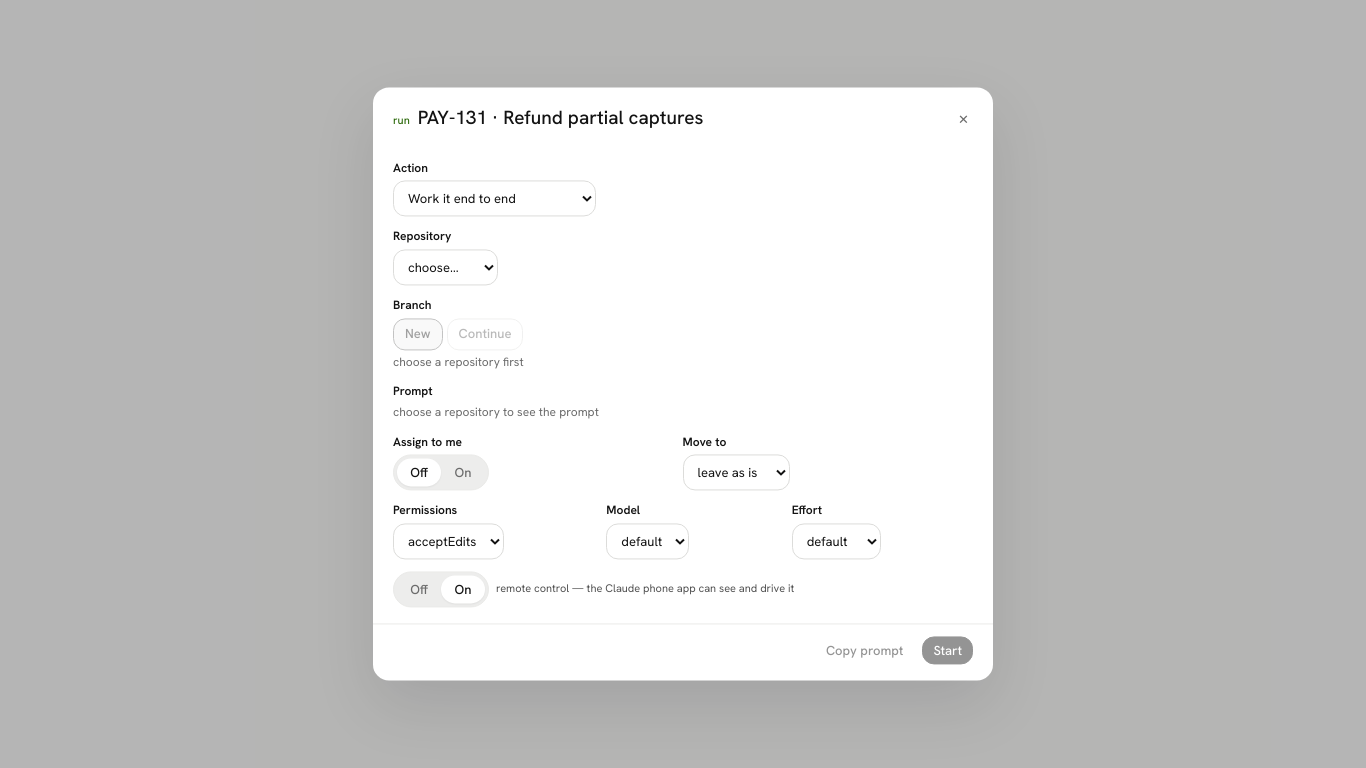
JiraLaunchSheet — the branch › puts A's defaults back after an edit in A and a quick A → B → A, B's refs never answering
Select "~/pay" in the dropdown named "Repository" at (446, 268), box [393,250,498,286]
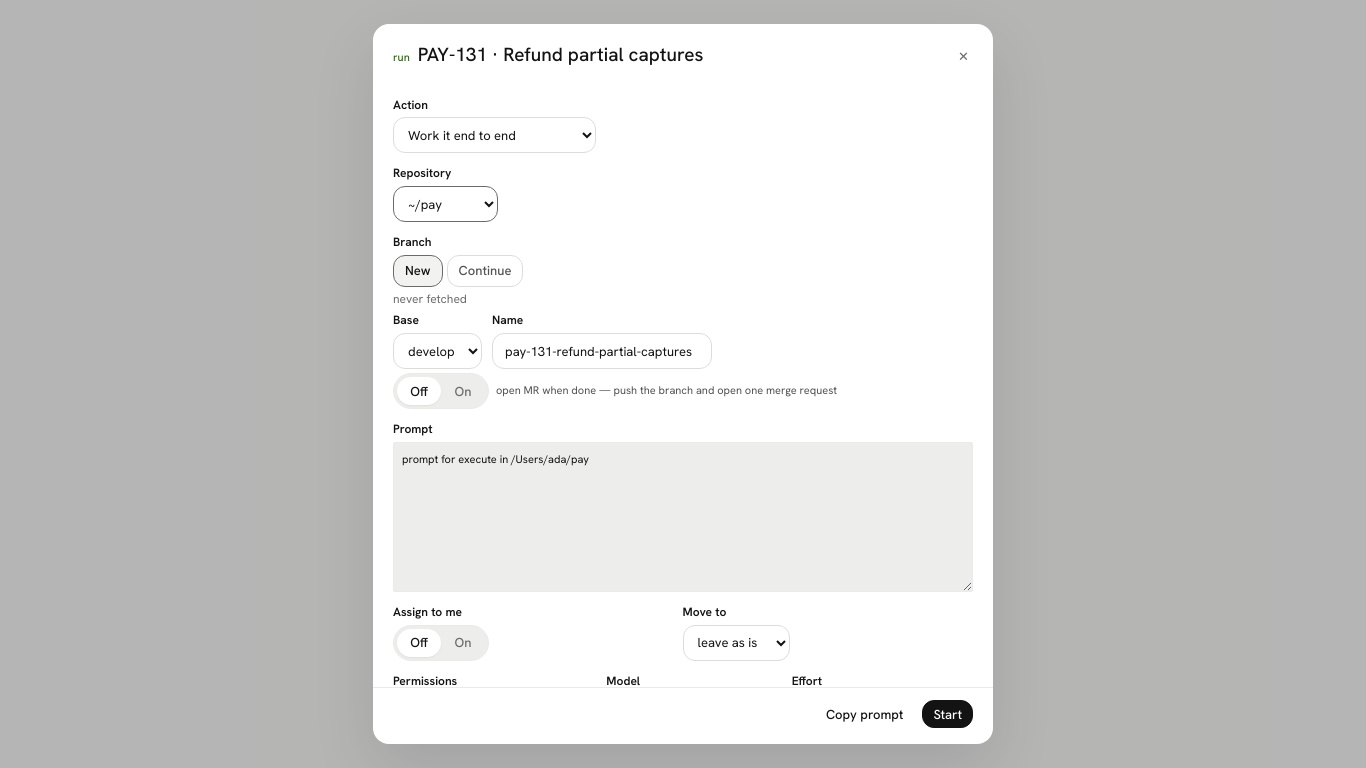
Expected: the button "New" is shown, [393,255,443,287]
Clear the field labelled "Name" at (602, 351), box [492,333,712,369]
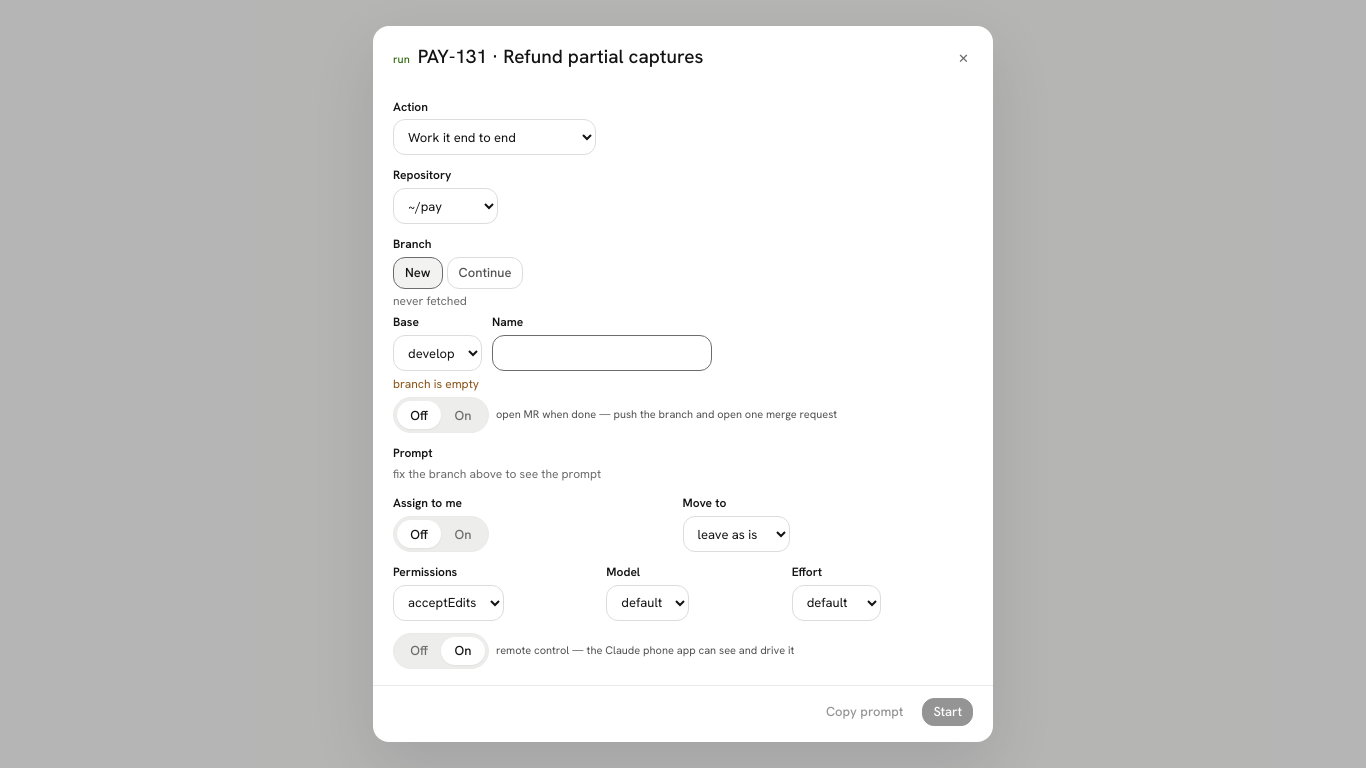
Type "pay-131-edited" into the field labelled "Name" at (602, 353), box [492,335,712,371]
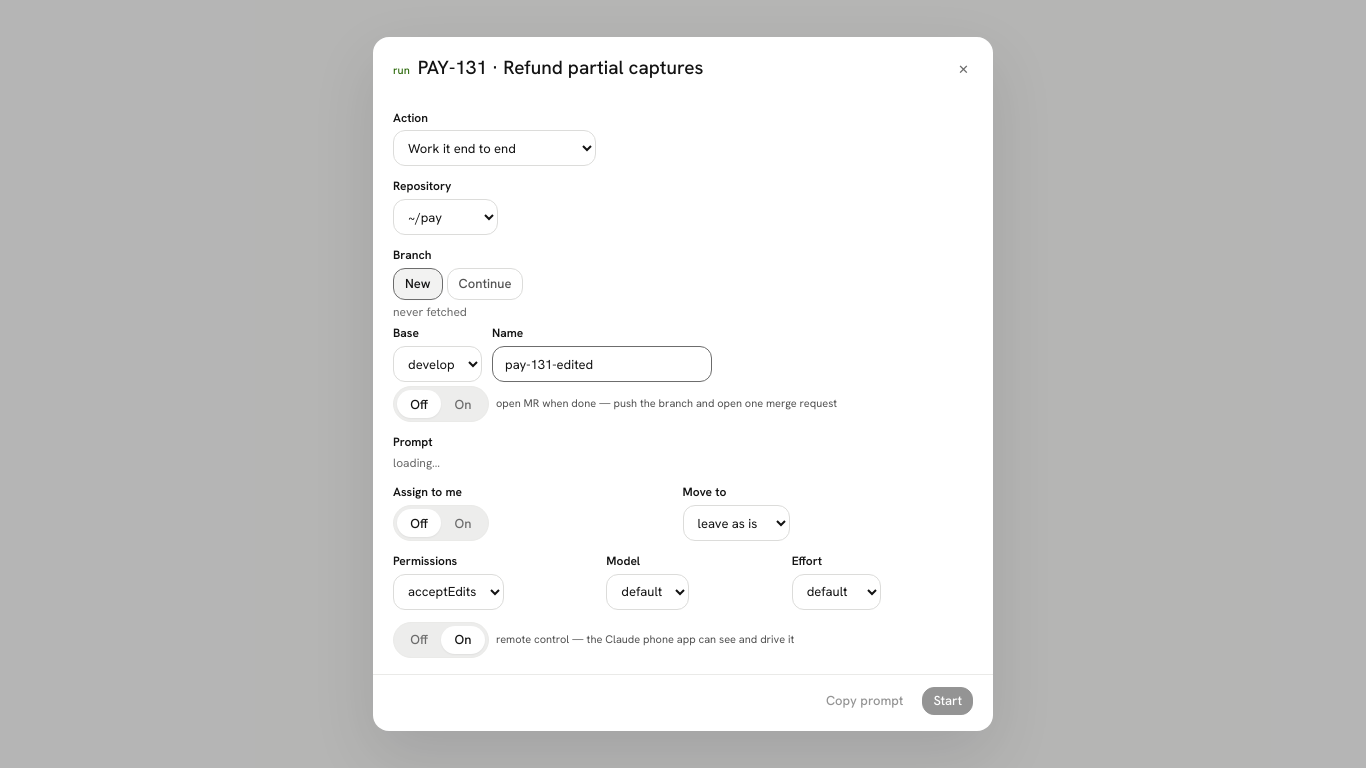
Select "~/pay-web" in the dropdown named "Repository" at (446, 217), box [393,199,498,235]
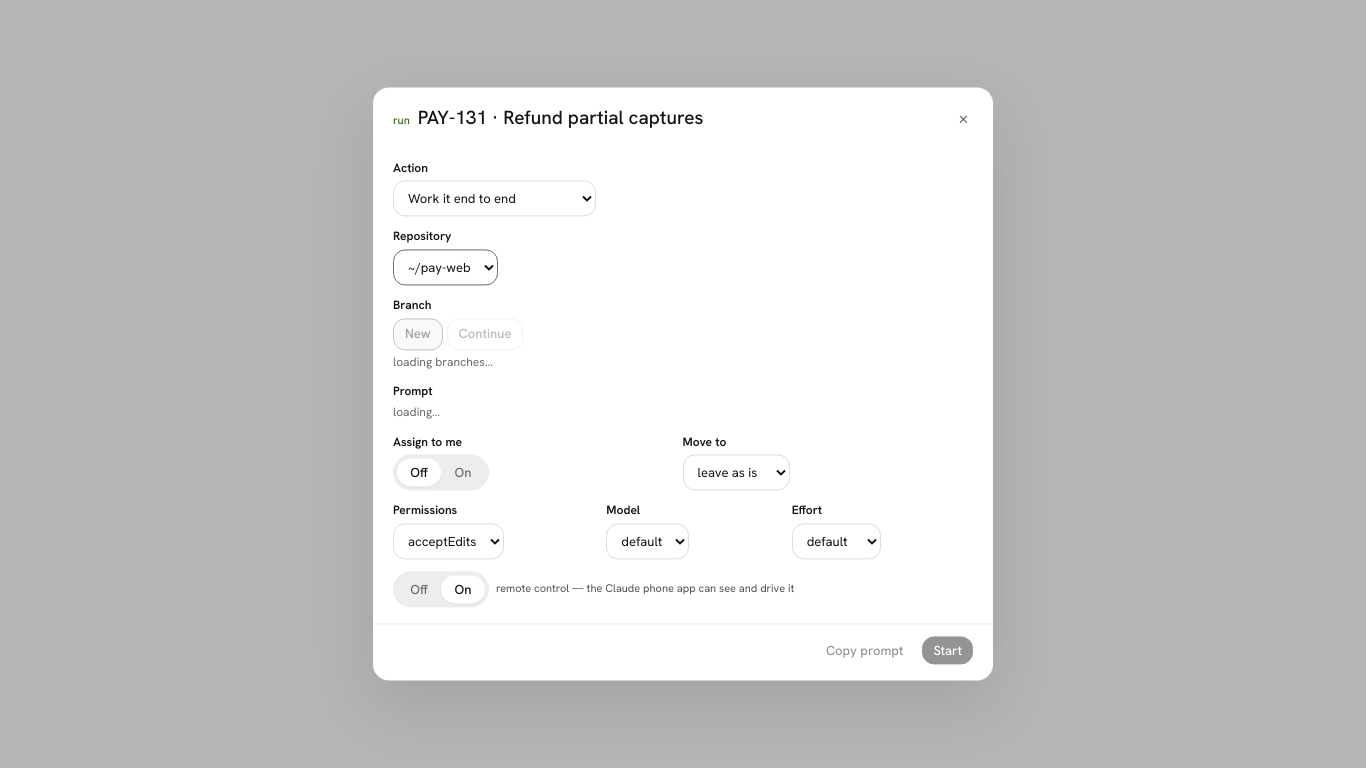
Expected: the text "loading branches…" is shown, [393,354,493,372]
Select "~/pay" in the dropdown named "Repository" at (446, 268), box [393,250,498,286]
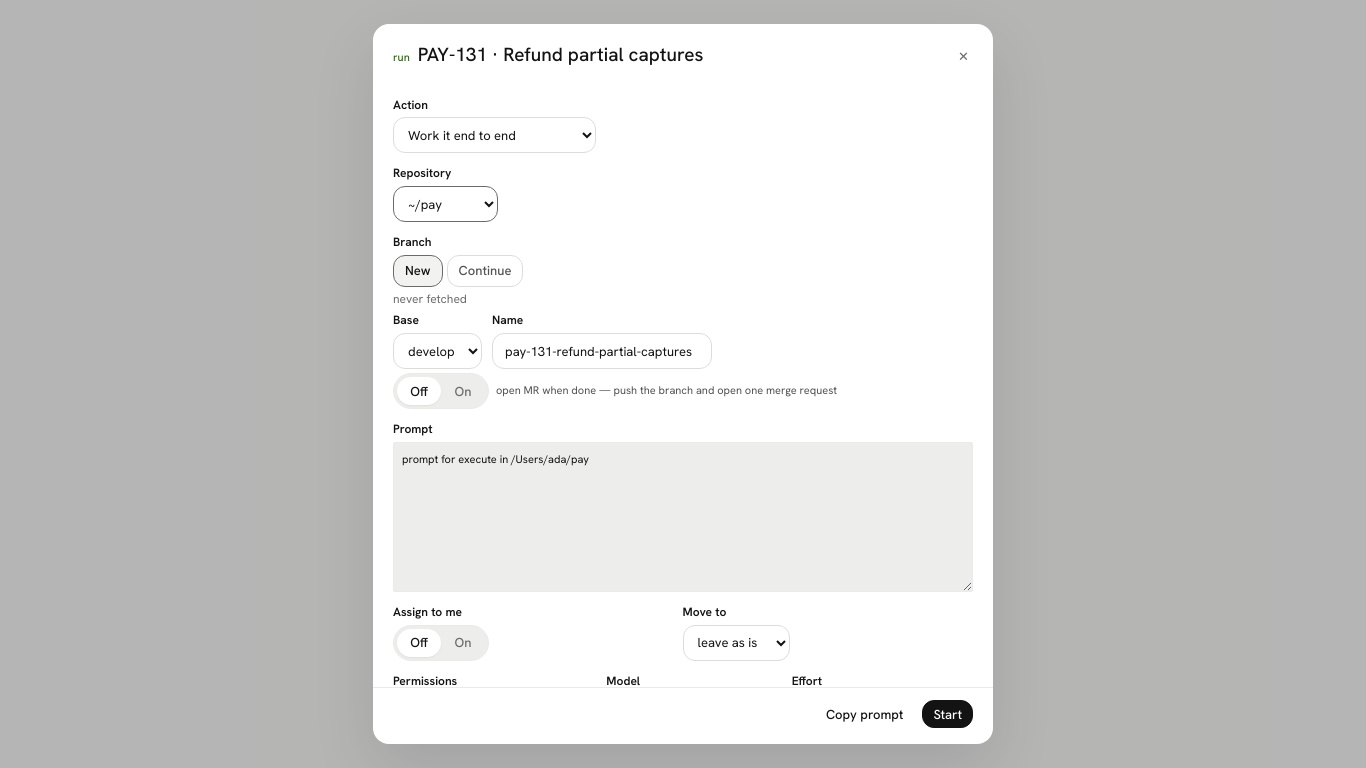
Expected: the field labelled "Name" holds "pay-131-refund-partial-captures", [492,333,712,369]
